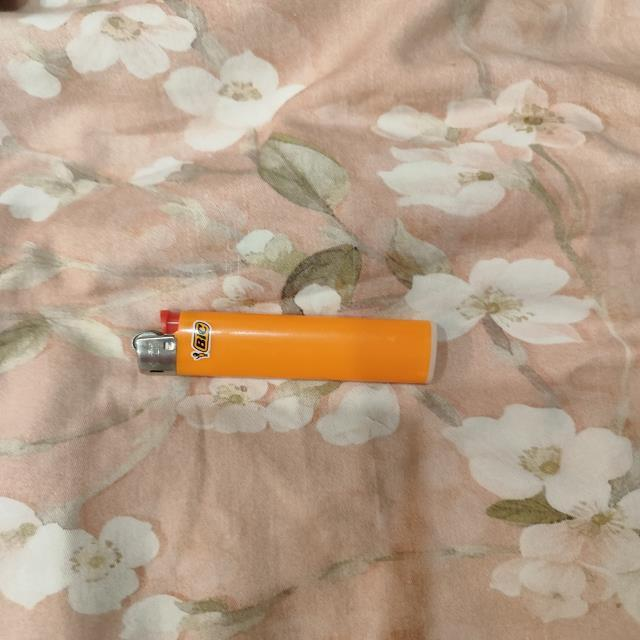lighter: (133, 310, 436, 384)
